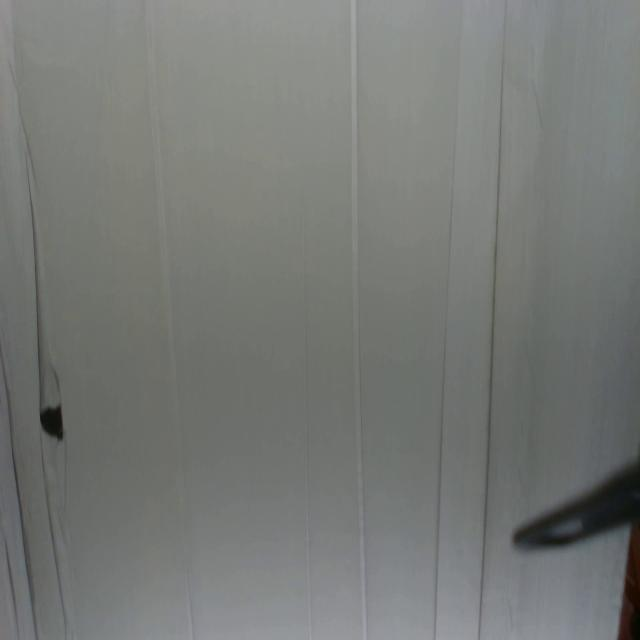crease: (143, 0, 196, 636), (24, 154, 68, 639), (478, 0, 508, 639), (434, 2, 464, 640), (349, 0, 369, 640), (0, 346, 37, 640), (299, 205, 314, 639), (9, 60, 39, 180), (1, 524, 20, 639)
hole: (38, 402, 64, 444)
